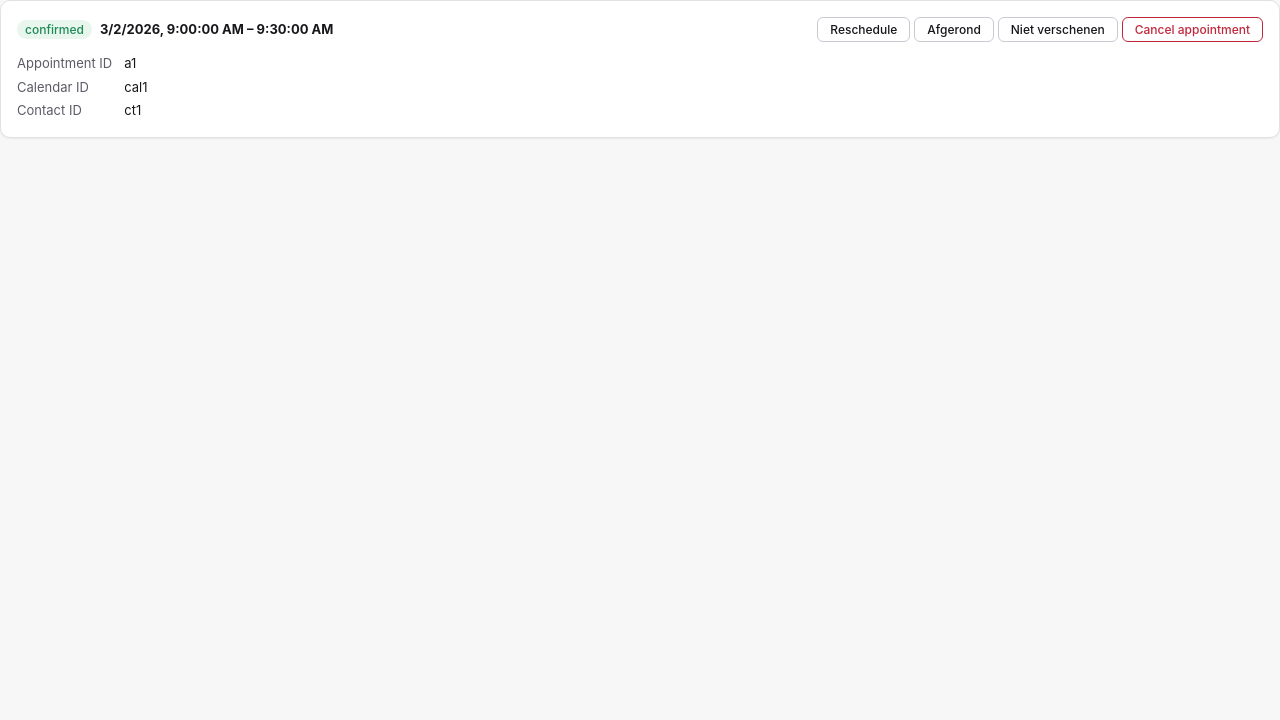
Test case: AppointmentCard › does not hide a non-enumerating 404 behind a generic message
Click the button "Cancel appointment" at x=1192, y=30, box [1122,17,1263,42]
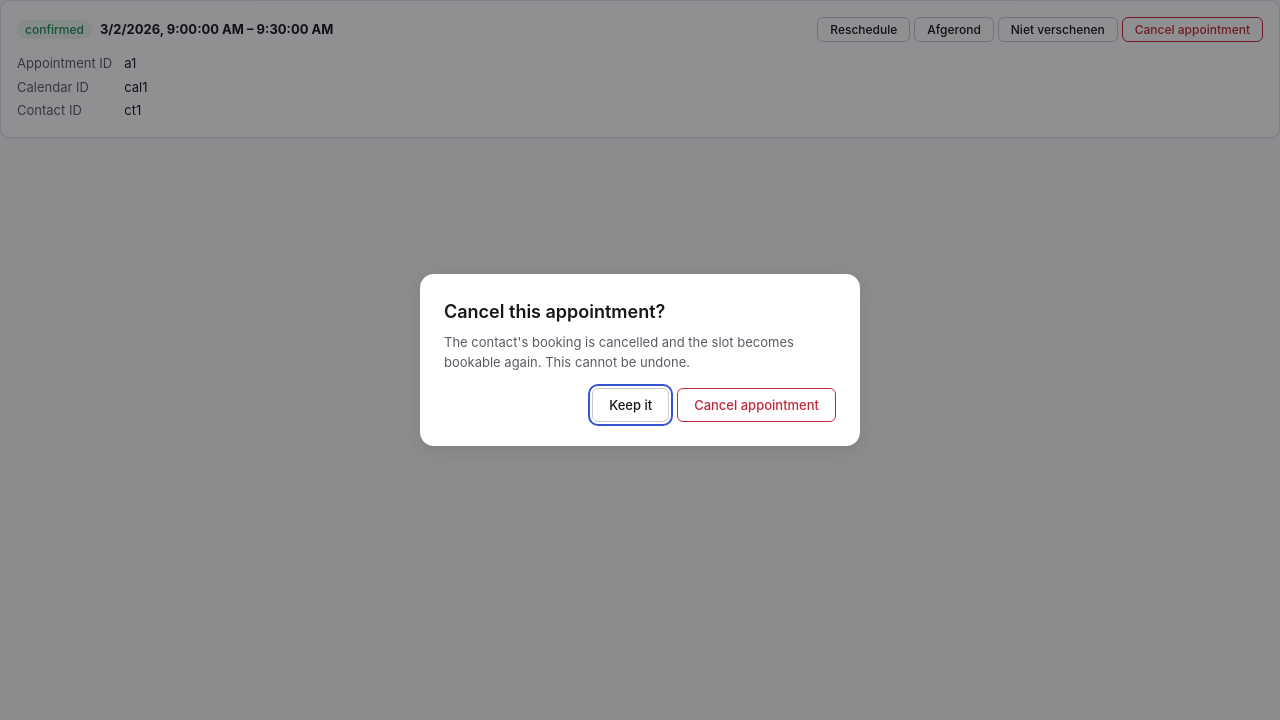
Click the button "Cancel appointment" at x=757, y=405, box [677,388,836,422]
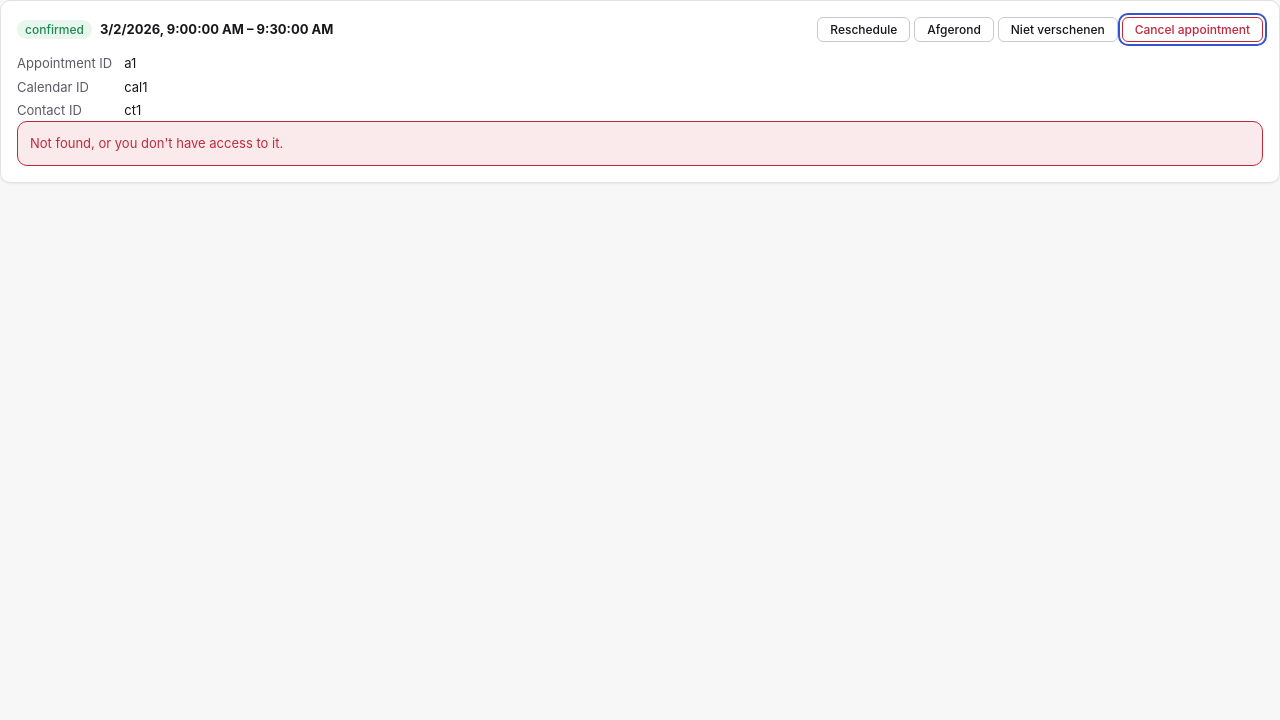
Result: the text "Not found, or you don't have access to it." is shown at [30,134,283,150]
